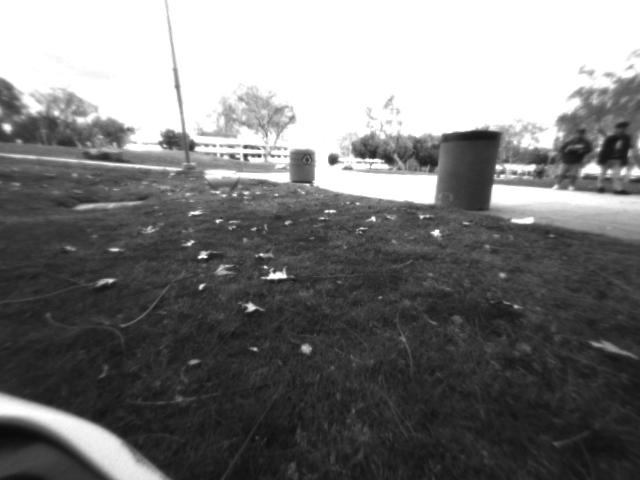trashcan: (430, 120, 508, 223), (283, 141, 322, 186)
